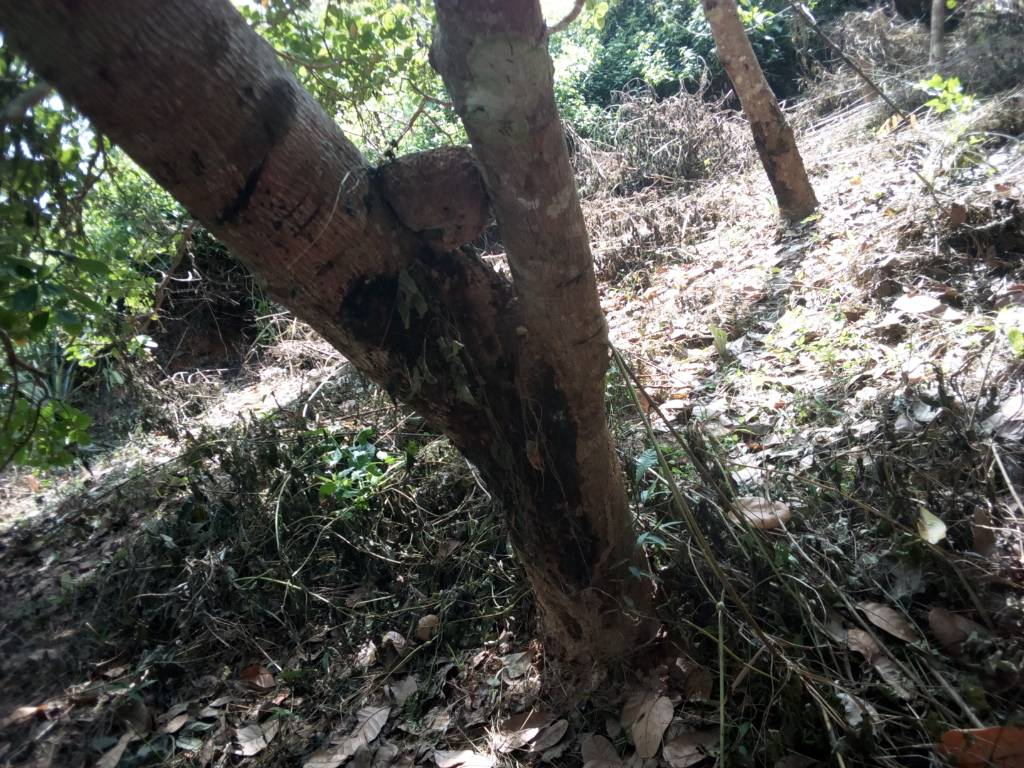Termites: (381, 146, 496, 251)
